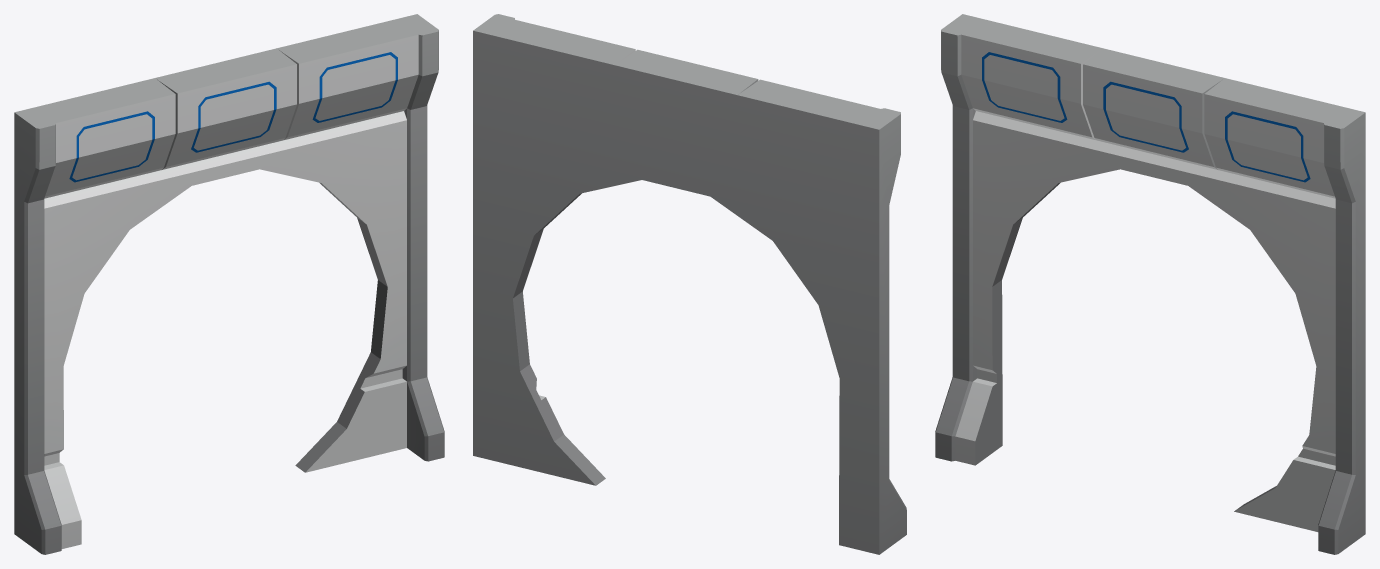
Rendered from Wall_type_A_062.fbx.
3 renders of one model, left to right at view 1: azimuth 30°, elevation 25°; view 2: azimuth 150°, elevation 25°; view 3: azimuth 330°, elevation 25°, orthographic.
Visible parts, largest first — view 1: Wall_type_A_062; view 2: Wall_type_A_062; view 3: Wall_type_A_062.
Boxes of the visible parts, <box> form: Wall_type_A_062: <box>14,14,444,554</box>; Wall_type_A_062: <box>473,14,906,554</box>; Wall_type_A_062: <box>935,14,1365,554</box>.
Size of the model in its own units: 400 by 50 by 400.
